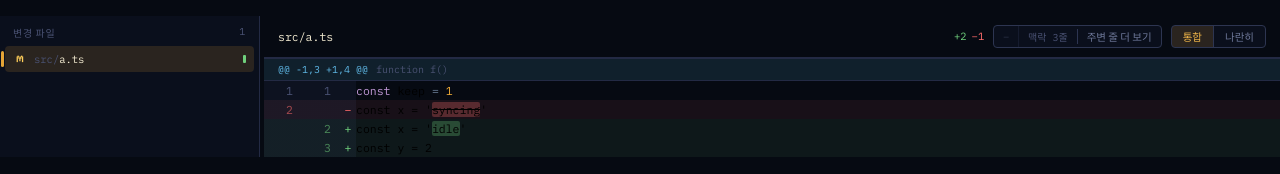
it: DiffExplorer — 주변 줄 더 보기(context 단계) › 최대 단계(50)에서 더 보기 버튼이 비활성, 줄이기로 이전 단계 context 복귀
expect the text "function f()" is shown: met, box [376, 62, 448, 76]
What coordinates should you click on to do the following:
click the button titled "주변 줄 더 보기"
I would click on:
 (1119, 36)
Its box is [1078, 26, 1161, 46].
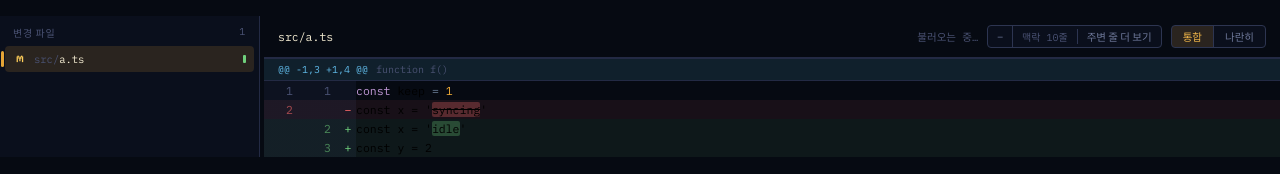
What coordinates should you click on to do the following:
click the button titled "주변 줄 더 보기"
I would click on:
 (1119, 36)
Its box is [1078, 26, 1161, 46].
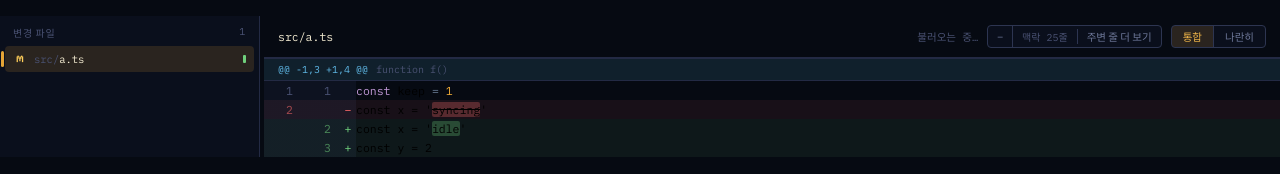
What coordinates should you click on to do the following:
click the button titled "주변 줄 더 보기"
I would click on:
 (1119, 36)
Its box is [1078, 26, 1161, 46].
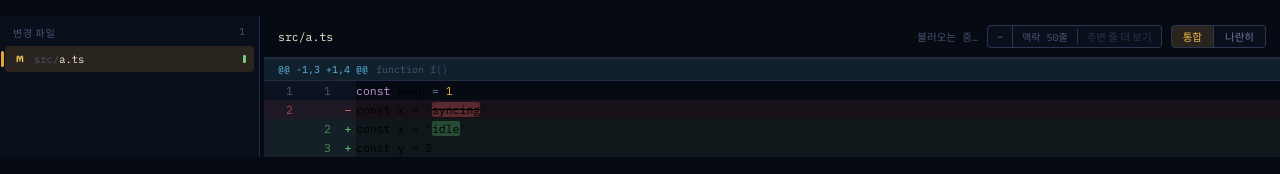
expect the text "맥락 50줄" is shown: met, box [1022, 30, 1068, 44]
expect the button titled "주변 줄 더 보기" is disabled: met, box [1078, 26, 1161, 46]
What coordinates should you click on to do the following:
click the button titled "맥락 줄이기"
I would click on:
 (1001, 36)
Its box is [988, 26, 1013, 46].
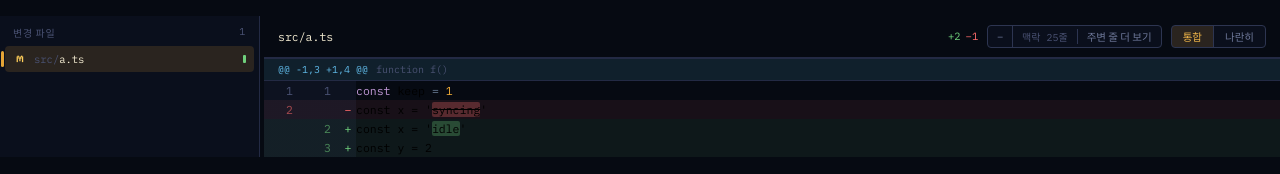
expect the text "맥락 25줄" is shown: met, box [1022, 30, 1068, 44]
